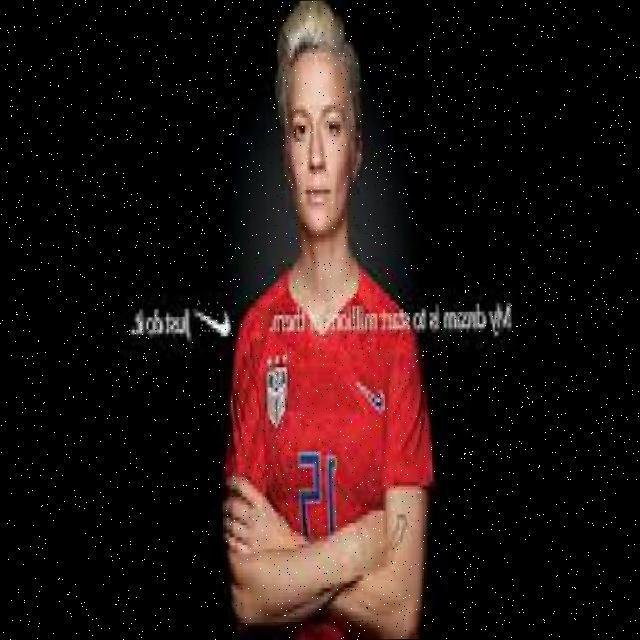Nike: (196, 300, 235, 337)
